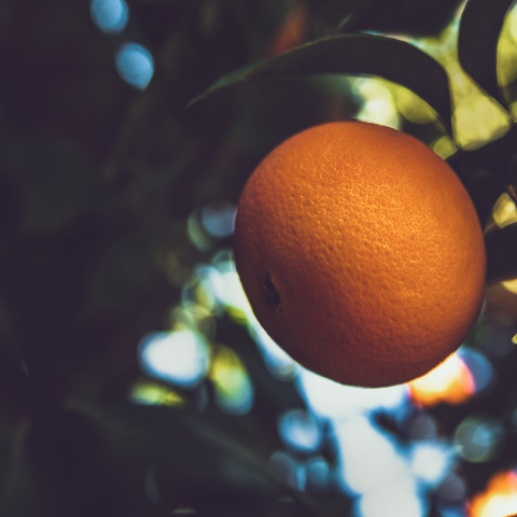orange: (171, 51, 517, 484)
